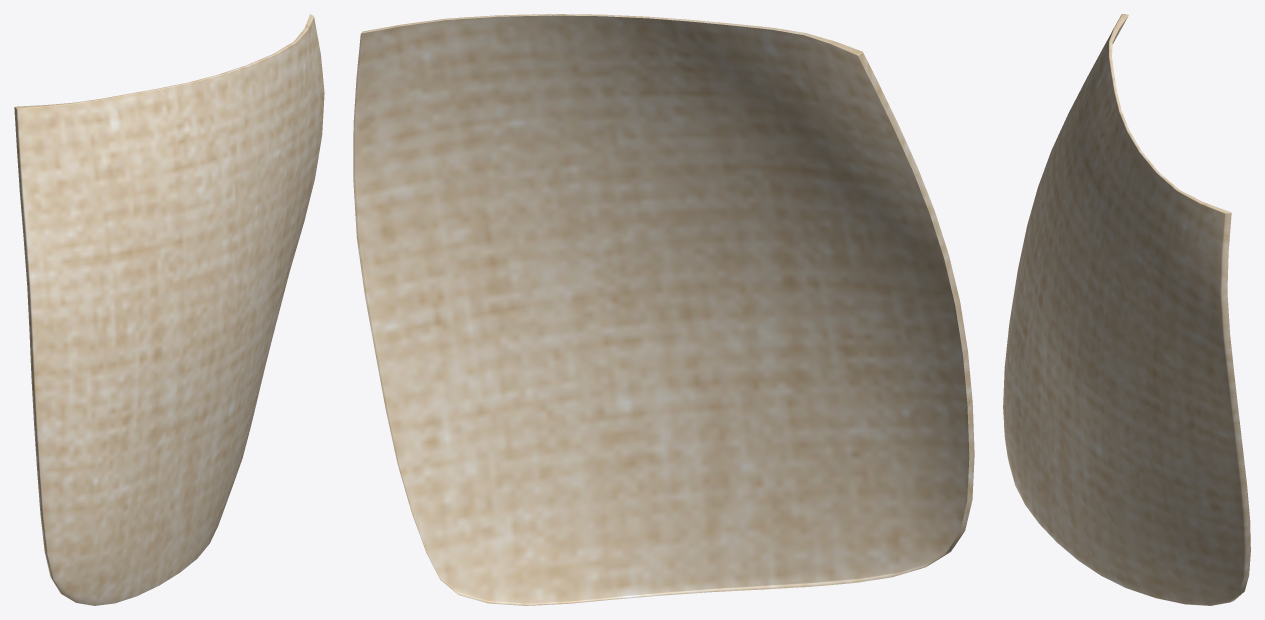
Rendered from Patch_Pocket Upper.glb.
3 views of the same model, side by side, from view 1: azimuth 30°, elevation 25°; view 2: azimuth 150°, elevation 25°; view 3: azimuth 270°, elevation 25° (orthographic). The views are drawn at different scales.
Visible parts, largest first — view 1: Patch_Pocket Upper; view 2: Patch_Pocket Upper; view 3: Patch_Pocket Upper.
Boxes of the visible parts, left/top/right/bottom form: Patch_Pocket Upper: left=14, top=14, right=324, bottom=605; Patch_Pocket Upper: left=353, top=14, right=974, bottom=605; Patch_Pocket Upper: left=1003, top=14, right=1250, bottom=605.
Size of the model in its own units: 0.0124 by 0.0147 by 0.00687.
1 material, 1 textured.
